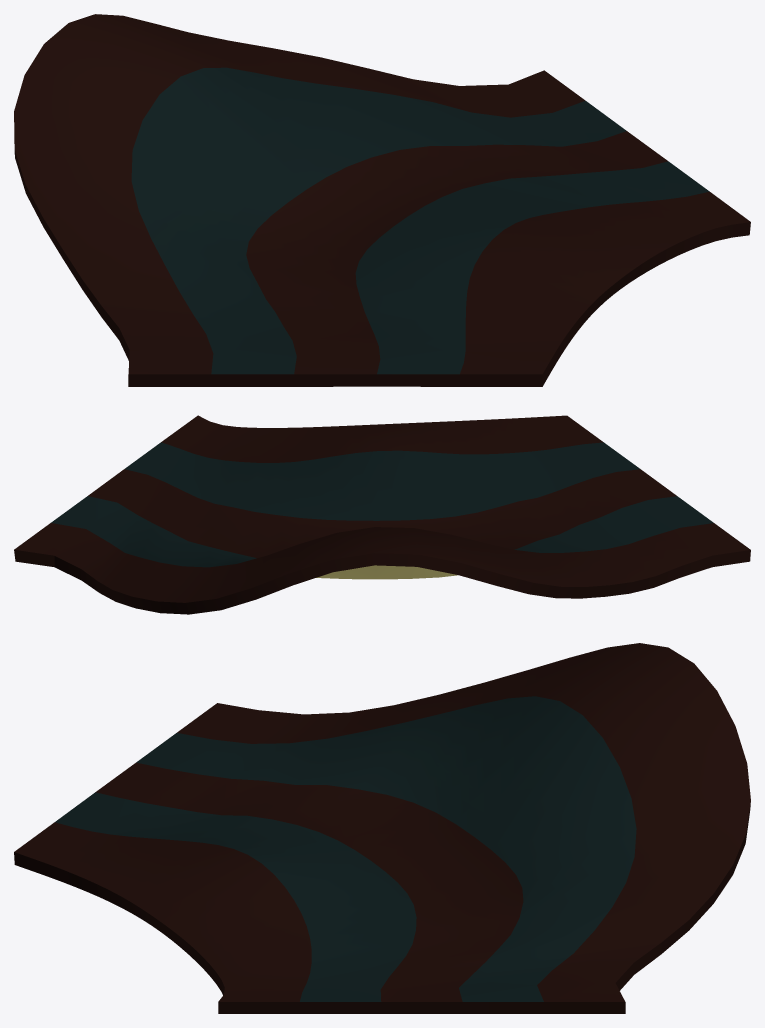
Rendered from trackleft2.fbx.
3 renders of one model, top to bottom at view 1: azimuth 30°, elevation 25°; view 2: azimuth 150°, elevation 25°; view 3: azimuth 270°, elevation 25°, orthographic. The views are drawn at different scales.
Parts seen in each view (by area): view 1: left2; view 2: left2; view 3: left2.
Boxes of the visible parts, x1,y1,x2,y2 form: left2: (14,14,750,386); left2: (14,415,750,614); left2: (14,643,750,1013).
Size of the model in its own units: 502 by 112 by 523.
1 material, 1 textured.
